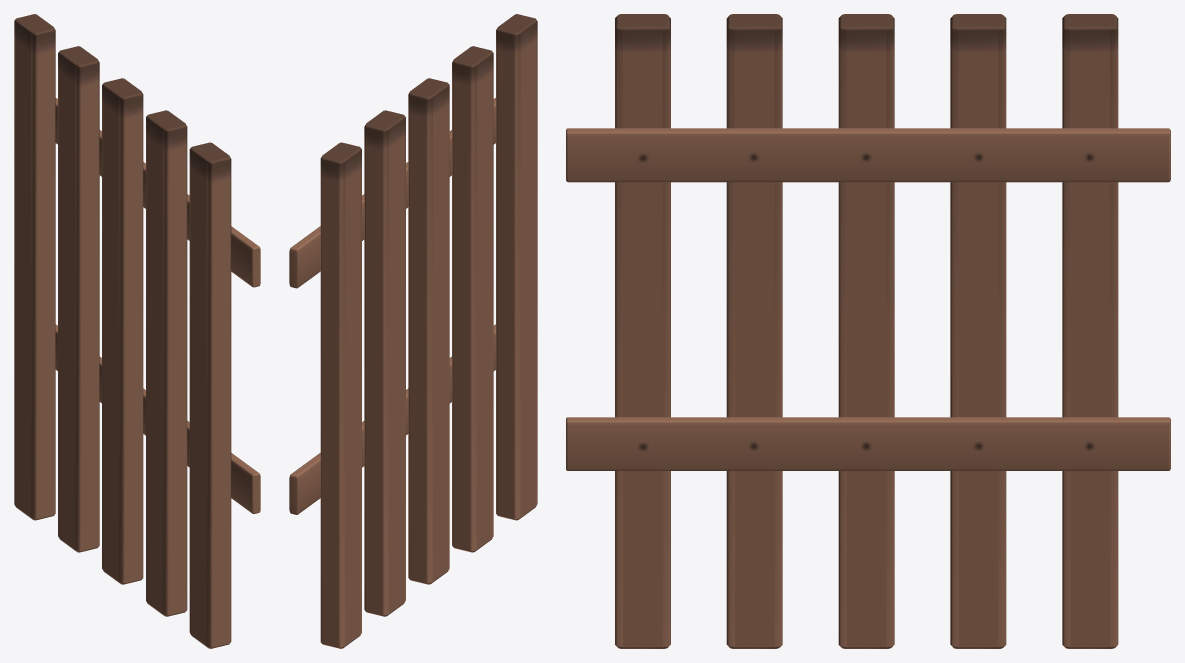
File: Fence_01.fbx
3 views of the same model, side by side, from view 1: azimuth 30°, elevation 25°; view 2: azimuth 150°, elevation 25°; view 3: azimuth 270°, elevation 25° (orthographic). The views are drawn at different scales.
Visible parts, largest first — view 1: Fence_Main_01, Fence_sk_01; view 2: Fence_Main_01, Fence_sk_01; view 3: Fence_Main_01, Fence_sk_01.
Part boxes in pixels (x1=…): Fence_Main_01: x1=14, y1=14, x2=231, y2=648; Fence_sk_01: x1=55, y1=98, x2=260, y2=513; Fence_Main_01: x1=320, y1=14, x2=537, y2=648; Fence_sk_01: x1=289, y1=98, x2=495, y2=514; Fence_Main_01: x1=615, y1=14, x2=1118, y2=648; Fence_sk_01: x1=566, y1=128, x2=1170, y2=470.
Size of the model in its own units: 10.95 by 157 by 138.
